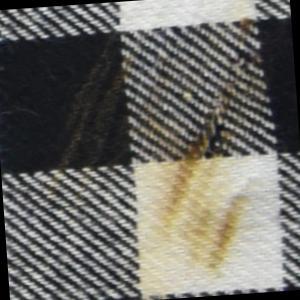Oil Stain: (32, 1, 283, 300)
